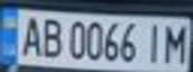0: (63, 17, 87, 61), (84, 18, 106, 62)
6: (118, 19, 142, 64), (103, 18, 124, 63)
A: (15, 12, 45, 59)
B: (39, 15, 66, 58)
I: (139, 20, 169, 64)
M: (160, 20, 190, 64)
